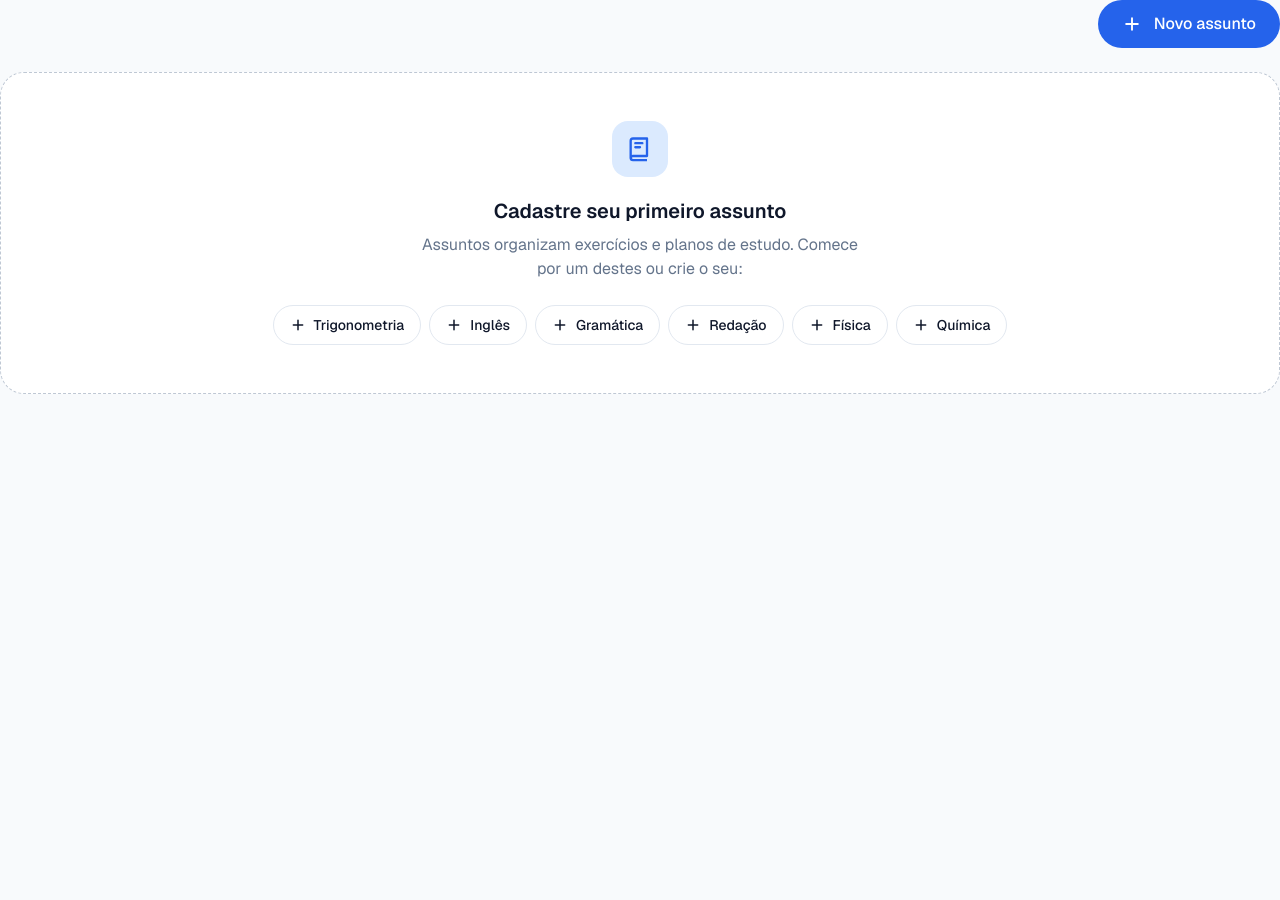
Test: SubjectBoard › offers suggestions when there are no subjects and prefills the form
Click the button "Gramática" at [598, 325], box x1=535 y1=305 x2=660 y2=345
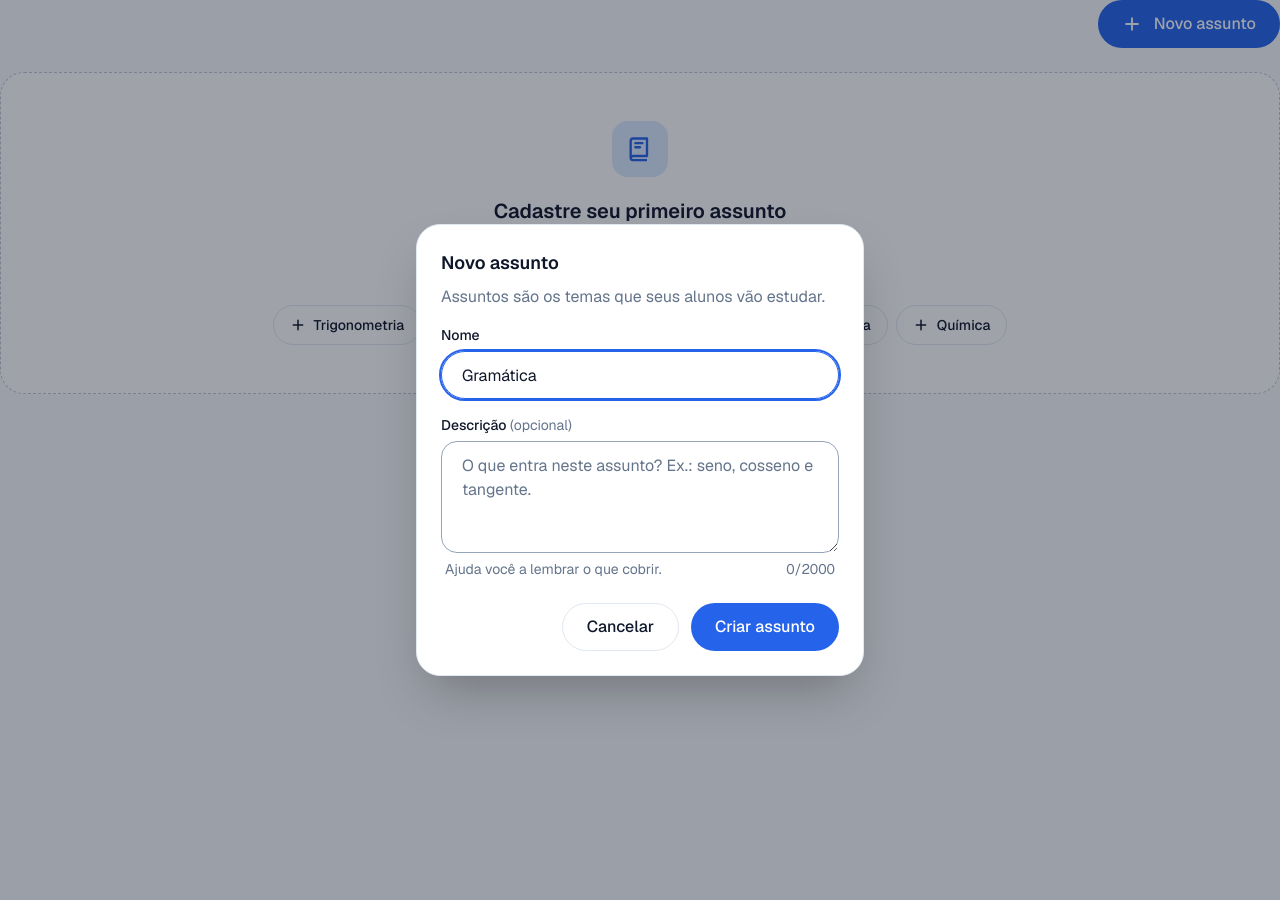
Check: the field labelled "Nome" holds "Gramática", box x1=441 y1=351 x2=839 y2=399
